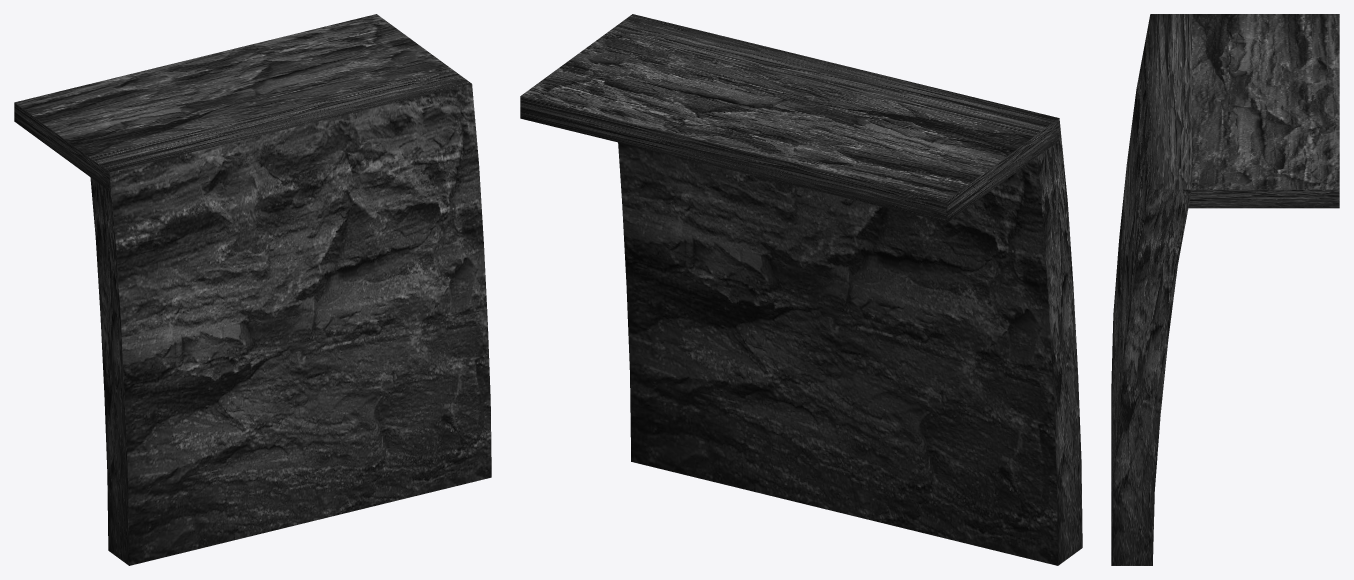
The model's file is Wall_middle_new 1.fbx.
3 renders of one model, left to right at view 1: azimuth 30°, elevation 25°; view 2: azimuth 150°, elevation 25°; view 3: azimuth 270°, elevation 25°, orthographic. The views are drawn at different scales.
Parts seen in each view (by area): view 1: Middel Piece, Dach Sseit piece; view 2: Middel Piece, Dach Sseit piece; view 3: Middel Piece, Dach Sseit piece.
Part boxes in pixels (<box>): Middel Piece: <box>89,68,491,565</box>; Dach Sseit piece: <box>14,14,450,190</box>; Middel Piece: <box>608,14,1082,565</box>; Dach Sseit piece: <box>520,32,1059,222</box>; Middel Piece: <box>1111,14,1191,565</box>; Dach Sseit piece: <box>1188,14,1339,208</box>.
Bounding box in the file's own units: 10 × 10 × 5.5.
Materials: 2 (2 with a texture image).
